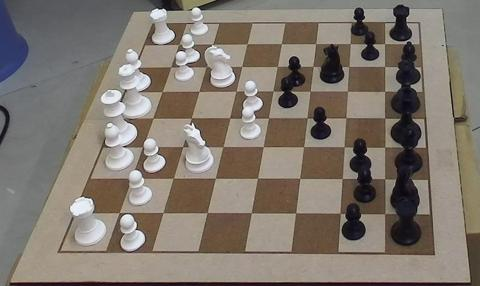xcorner: (345, 39, 355, 49), (310, 39, 320, 49), (276, 39, 286, 49), (241, 39, 251, 49), (380, 62, 390, 72), (308, 62, 318, 72), (272, 62, 282, 72), (236, 62, 246, 72), (200, 62, 210, 72), (165, 62, 175, 72), (380, 87, 390, 97), (342, 87, 352, 97), (305, 87, 315, 97), (230, 87, 240, 97), (193, 87, 203, 97), (156, 87, 166, 97), (224, 113, 234, 123), (185, 113, 195, 123), (147, 113, 157, 123), (380, 143, 390, 153), (339, 143, 349, 153), (177, 142, 187, 152), (137, 142, 147, 152), (380, 175, 390, 185), (252, 174, 262, 184), (210, 174, 220, 184), (168, 174, 178, 184), (380, 210, 390, 220), (291, 209, 301, 219), (246, 209, 256, 219), (202, 209, 212, 219), (380, 39, 389, 49), (207, 40, 217, 49), (173, 40, 183, 49), (344, 62, 353, 72), (268, 87, 277, 97), (380, 114, 390, 123), (341, 114, 351, 123), (302, 114, 312, 123), (263, 114, 273, 123), (258, 143, 268, 152), (217, 143, 227, 152), (295, 175, 305, 184), (126, 174, 135, 184), (158, 209, 167, 219), (113, 209, 123, 218), (299, 143, 308, 152), (338, 175, 347, 184), (336, 210, 345, 219)
